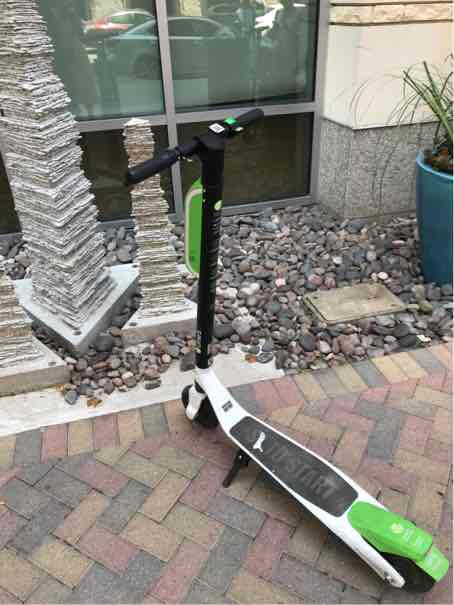scooter: (116, 100, 454, 598)
